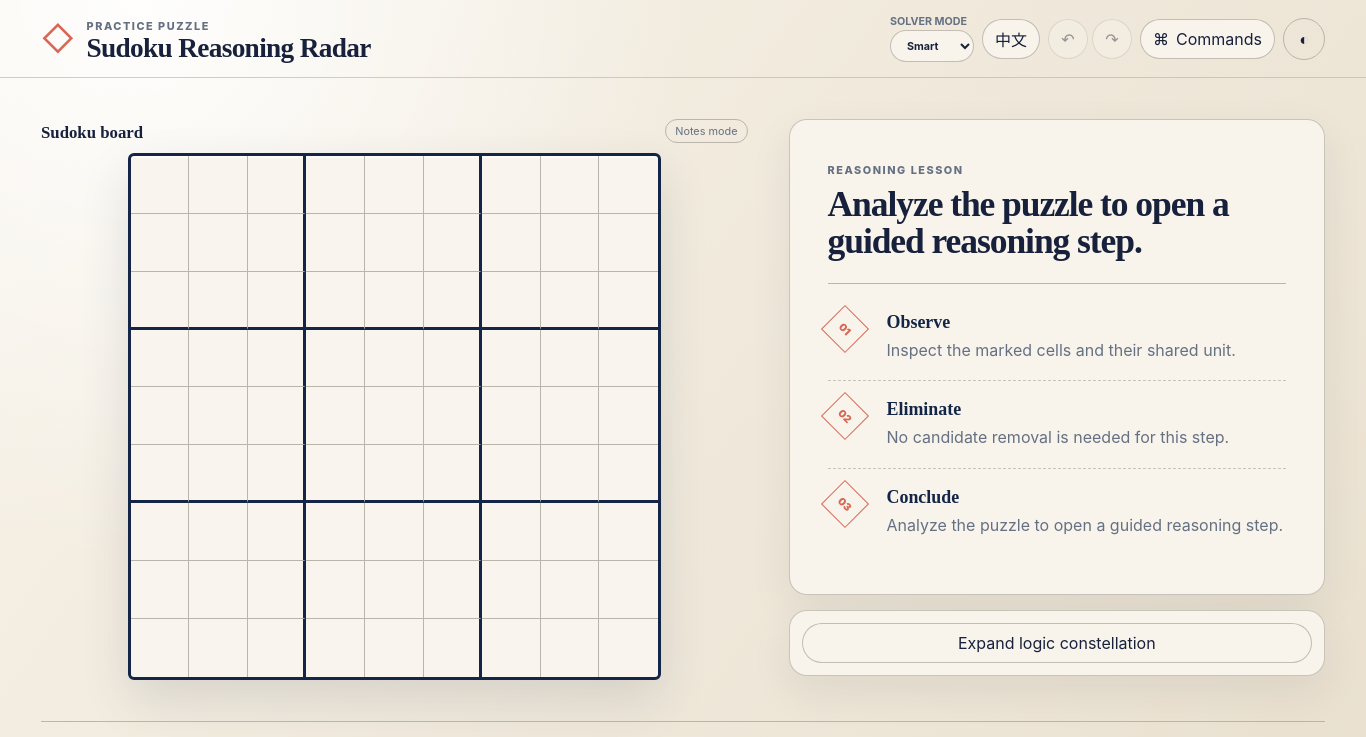
Test case: saves the puzzle and opens the library to load a saved puzzle
Type keys "/"
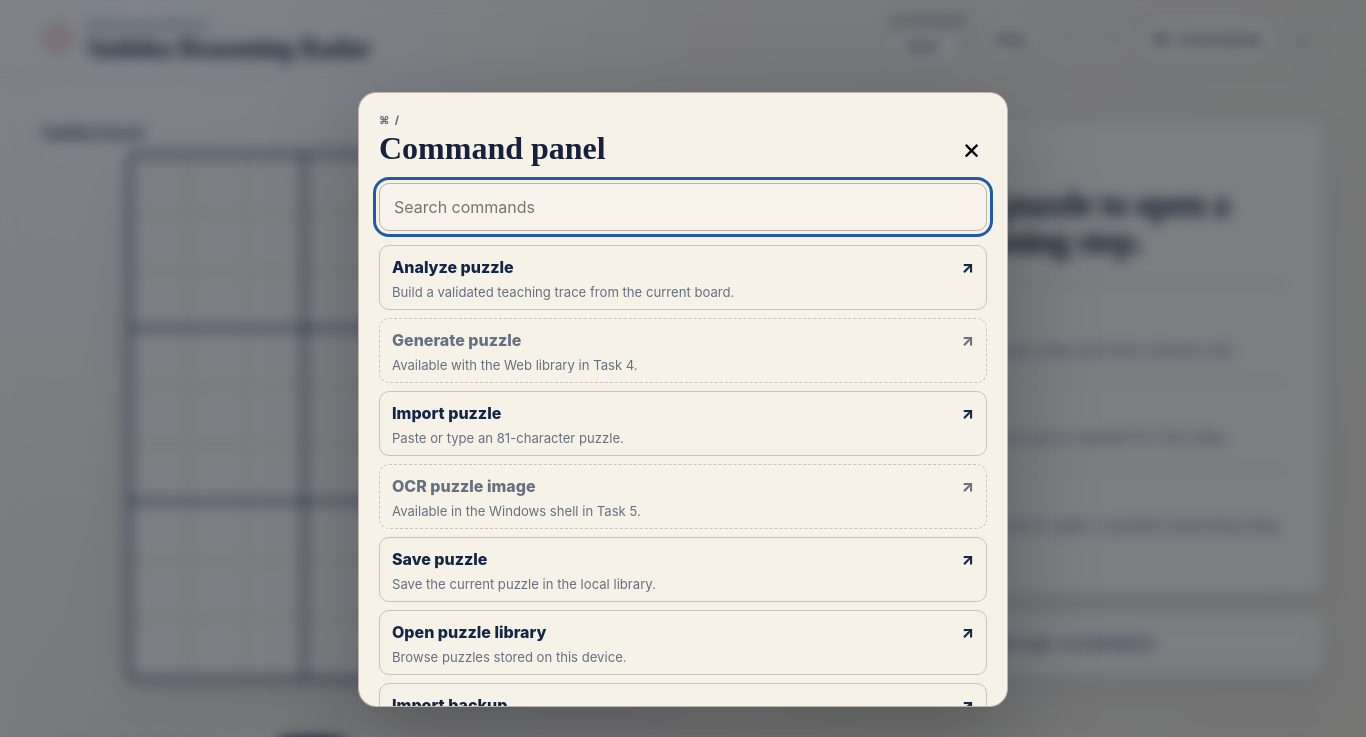
Click the button "Save puzzle ↗" at (440, 559), box [392,547,974,571]
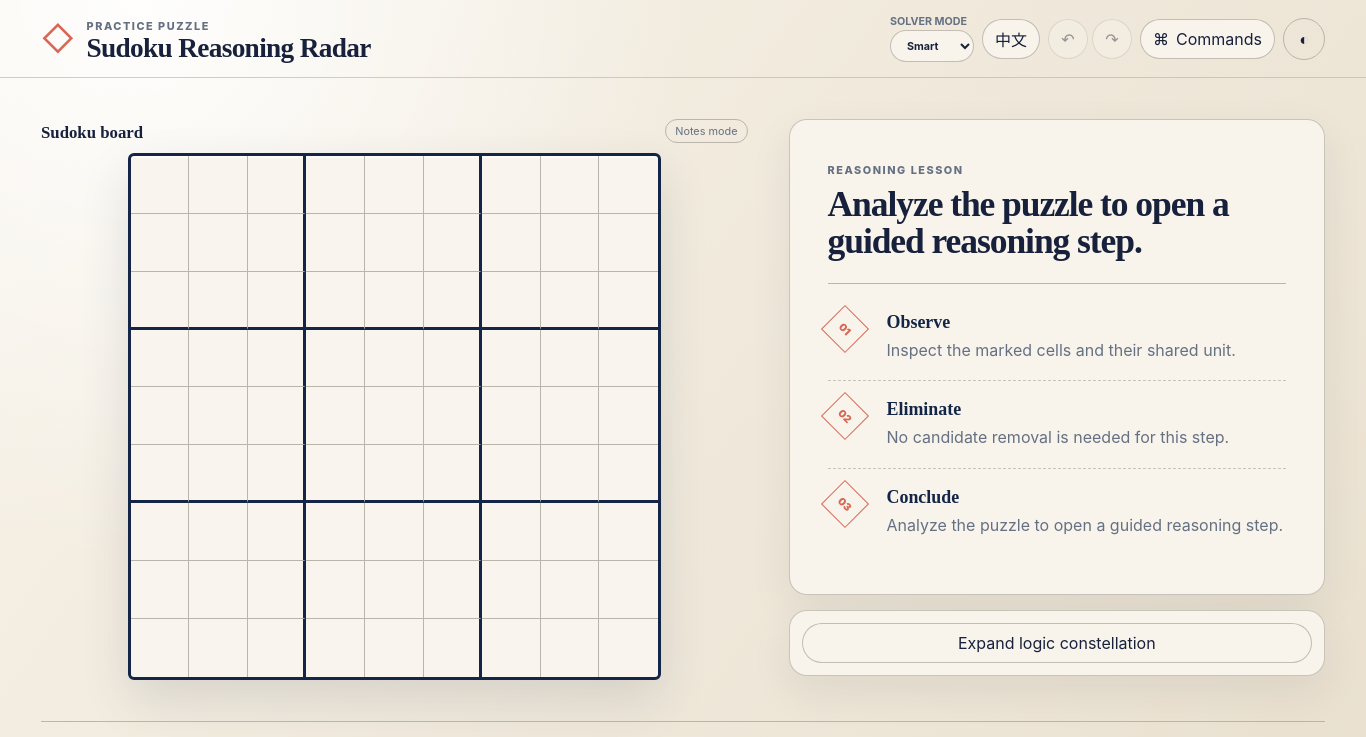
Type keys "/"
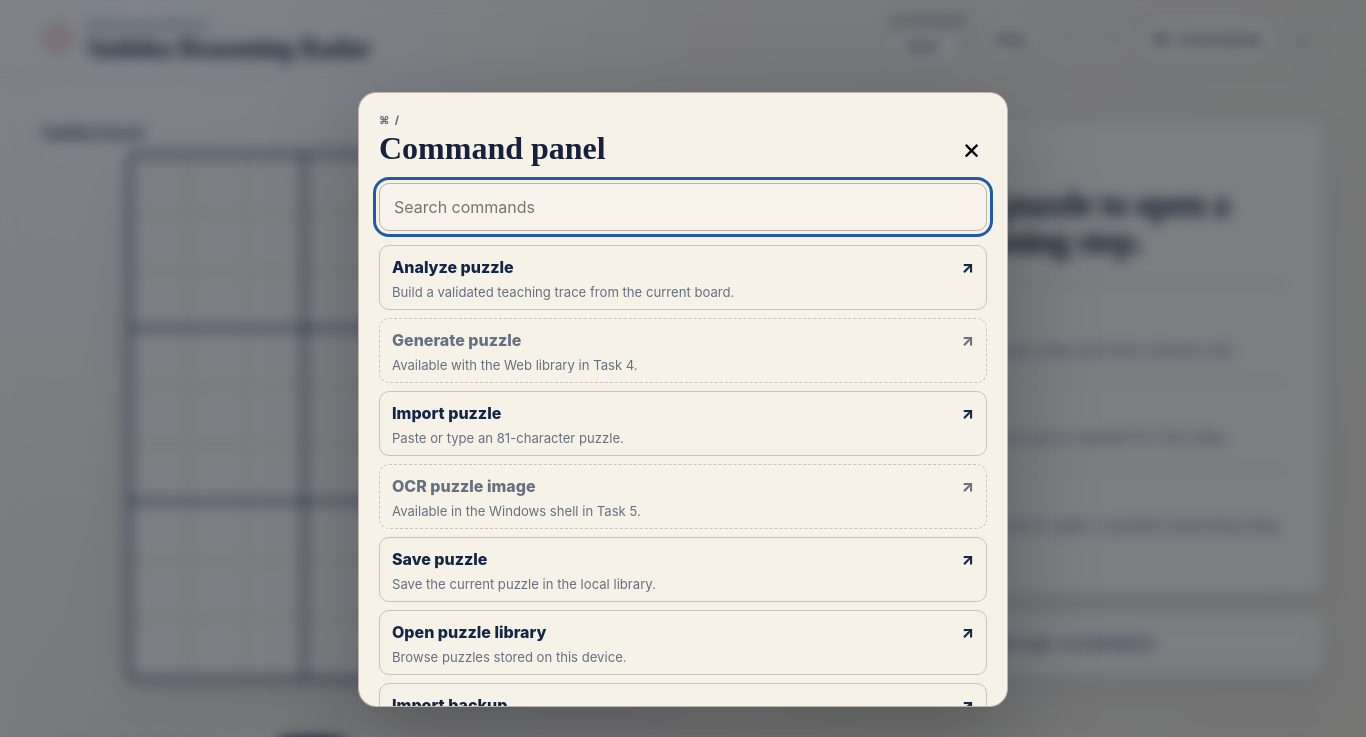
Click the button "Open puzzle library ↗" at (469, 632), box [392,620,974,644]
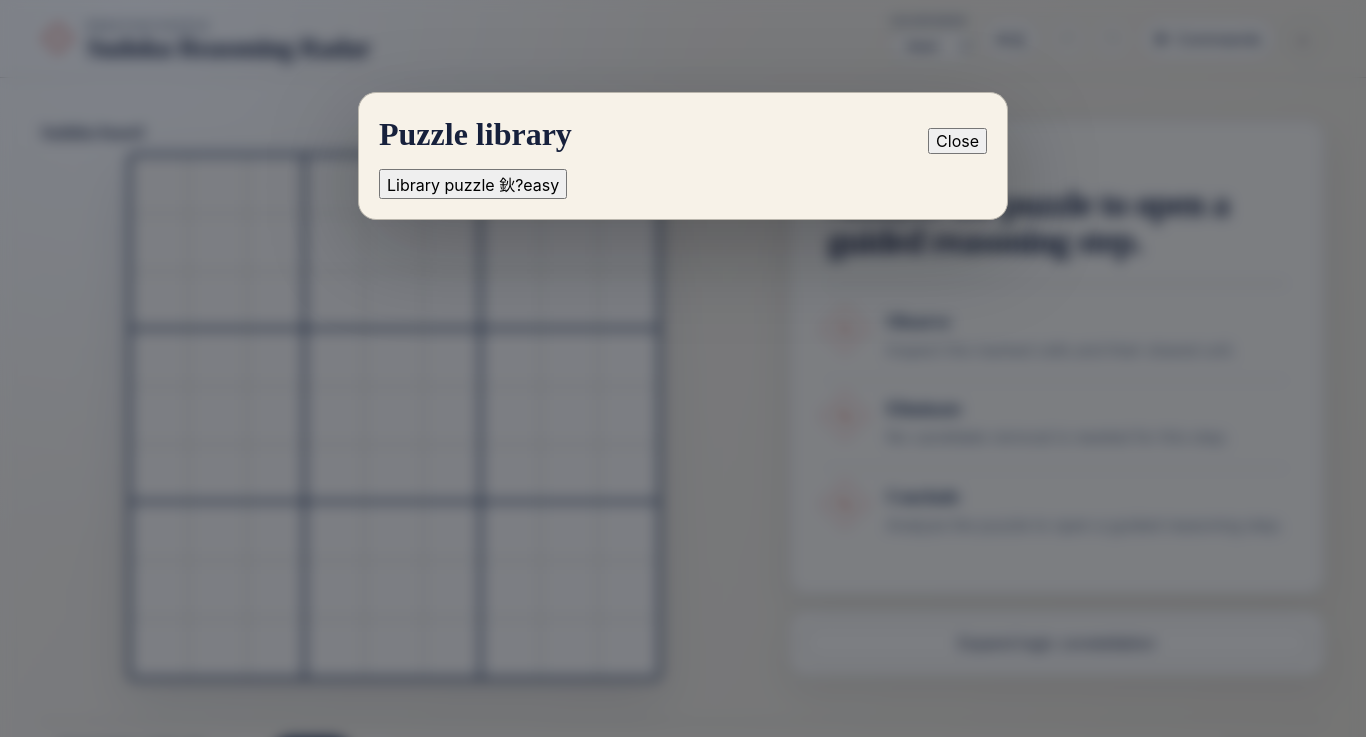
Click the button "Library puzzle 鈥?easy" at (473, 184), box [379,169,567,199]
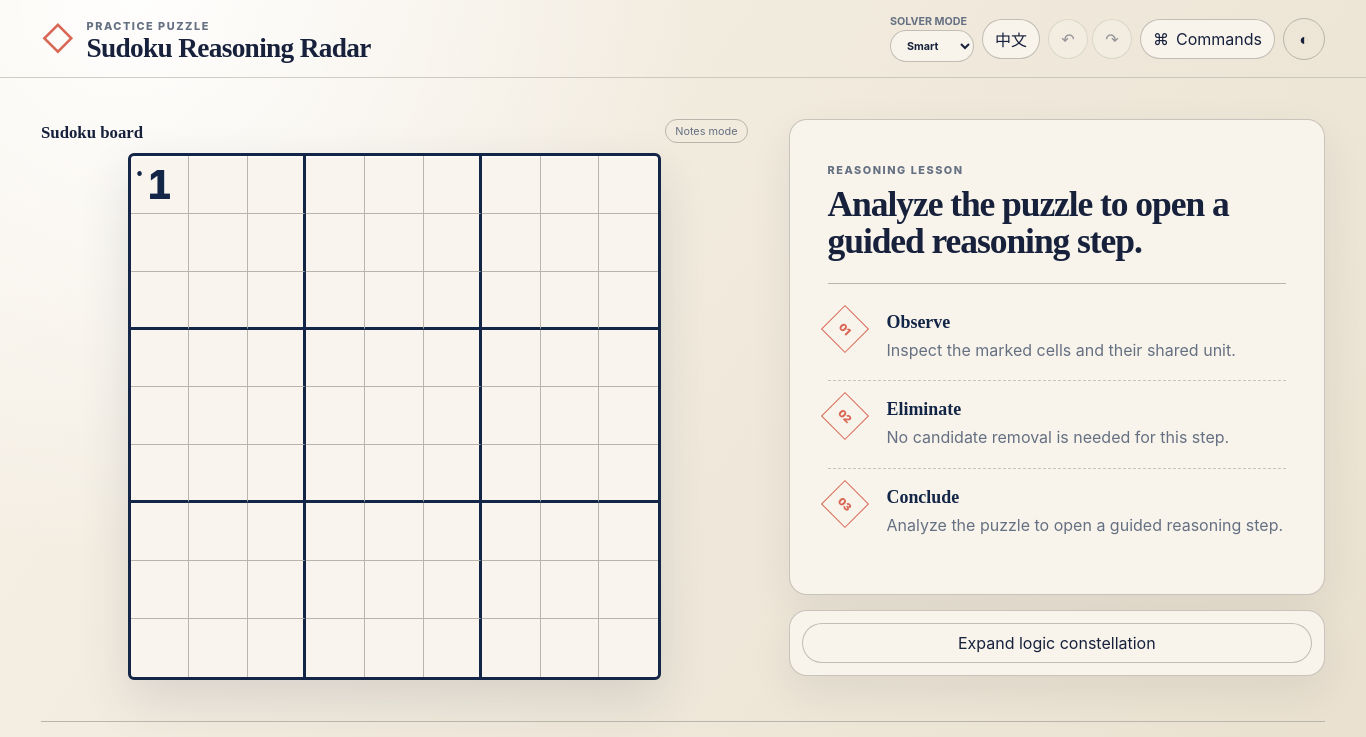
Expected: the button named "row 1, column 1, given 1" is shown, [131,165,188,204]
